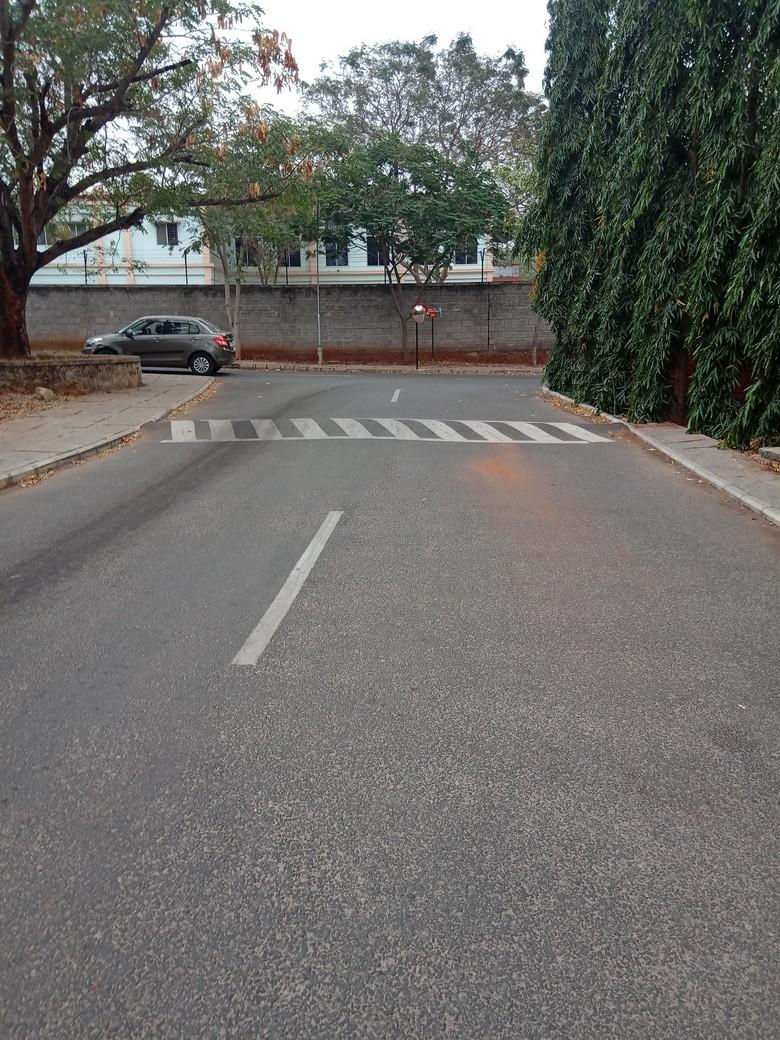speed-bump: (136, 419, 634, 444)
